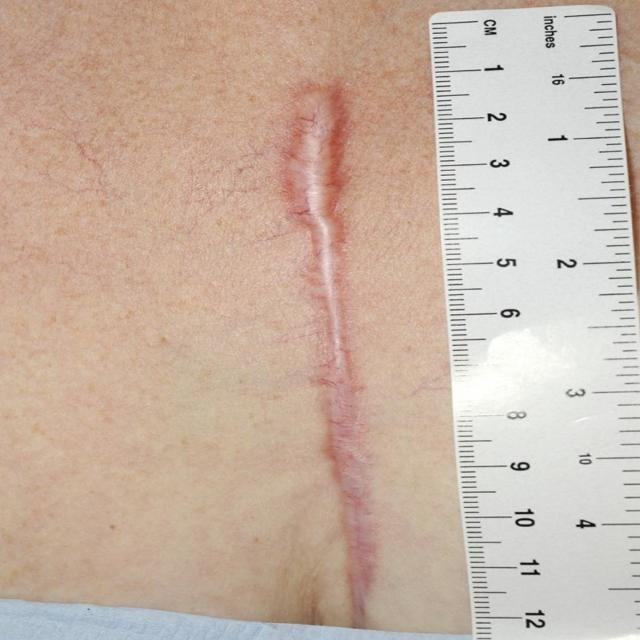wound: (277, 78, 381, 629)
